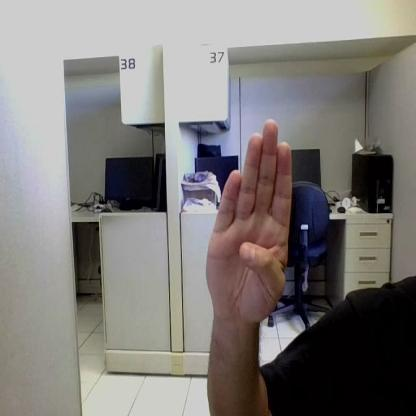B: (206, 118, 289, 314)
